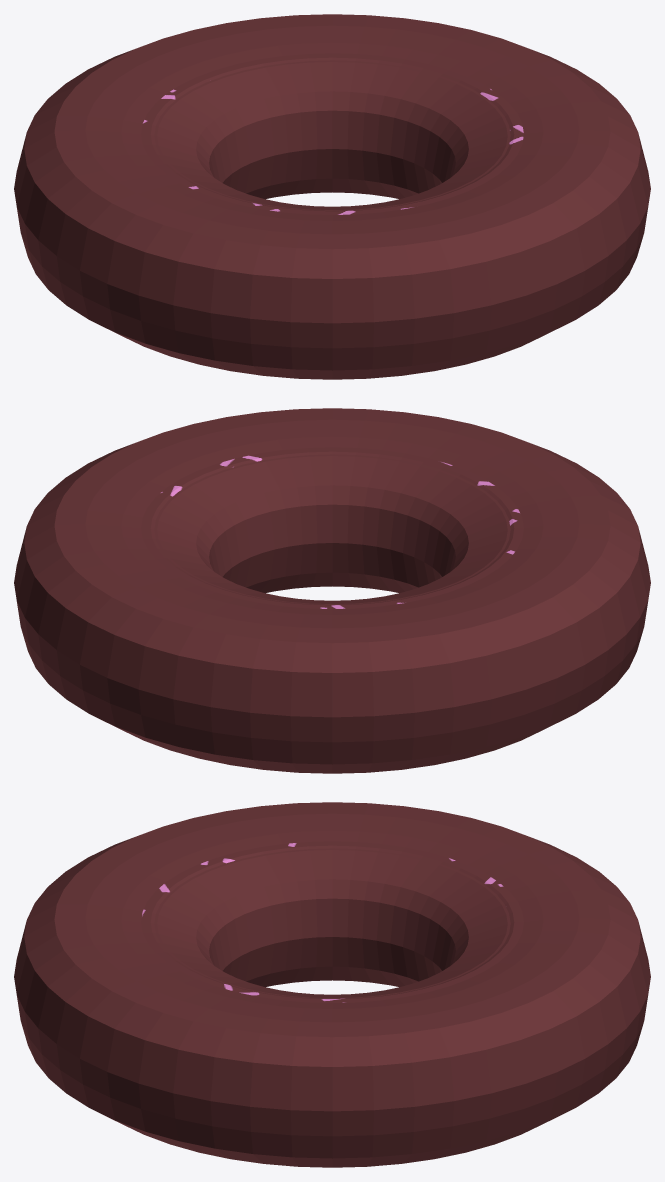
File: Donut.fbx
The picture shows the model from 3 angles, top to bottom: view 1: azimuth 30°, elevation 25°; view 2: azimuth 150°, elevation 25°; view 3: azimuth 270°, elevation 25°; orthographic projection.
Parts seen in each view (by area): view 1: Torus.003; view 2: Torus.003; view 3: Torus.003.
Part boxes in pixels (<box>): Torus.003: <box>14,14,650,379</box>; Torus.003: <box>14,408,650,773</box>; Torus.003: <box>14,802,650,1167</box>.
Size of the model in its own units: 40.9 by 10.24 by 40.9.
